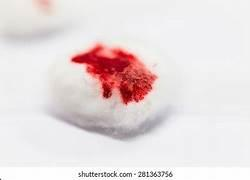cotton: (51, 43, 172, 130), (0, 0, 76, 35)
